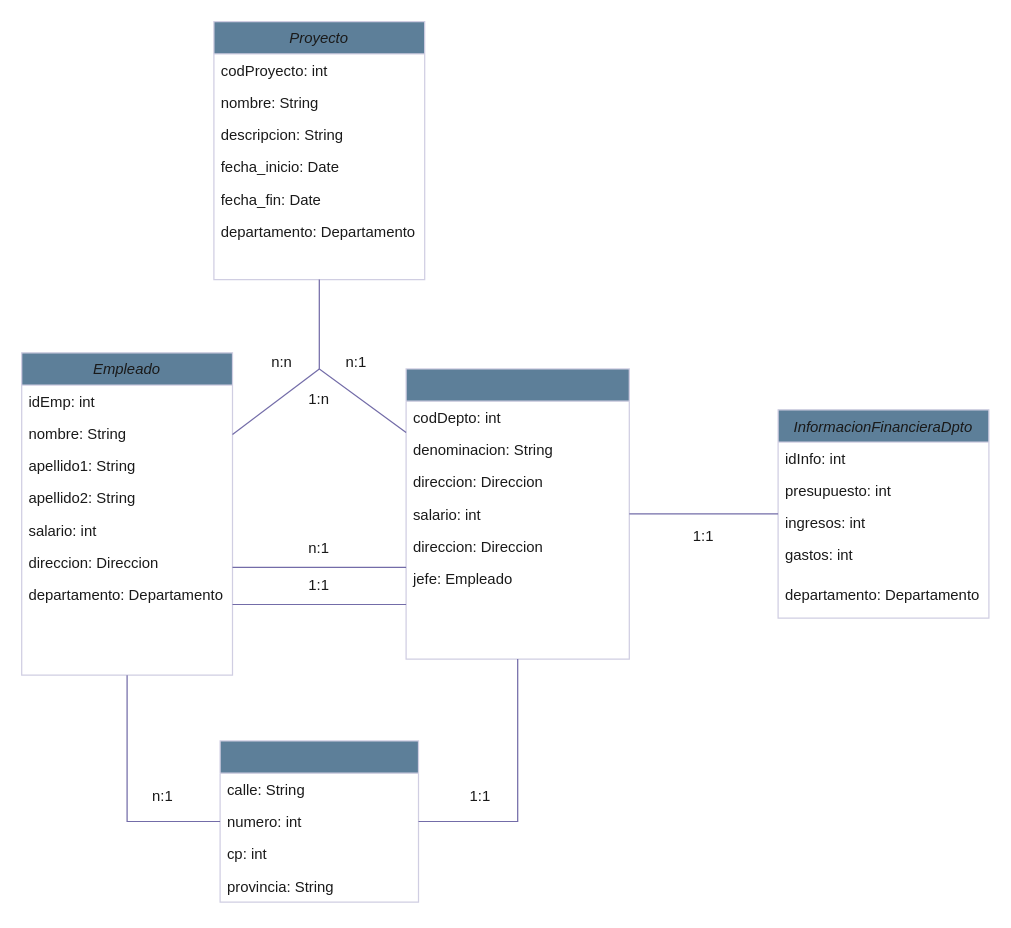
The diagram is 1011 pixels wide and 928 high, and some of its shapes have lost their labels. Here are the shapes that lost their labels. From the top down, the box of each, then its label:
(405, 368, 629, 659): Departamento
(219, 740, 418, 902): Direccion
